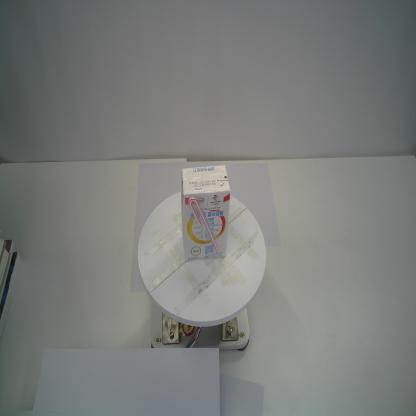Milk: (180, 164, 231, 262)
